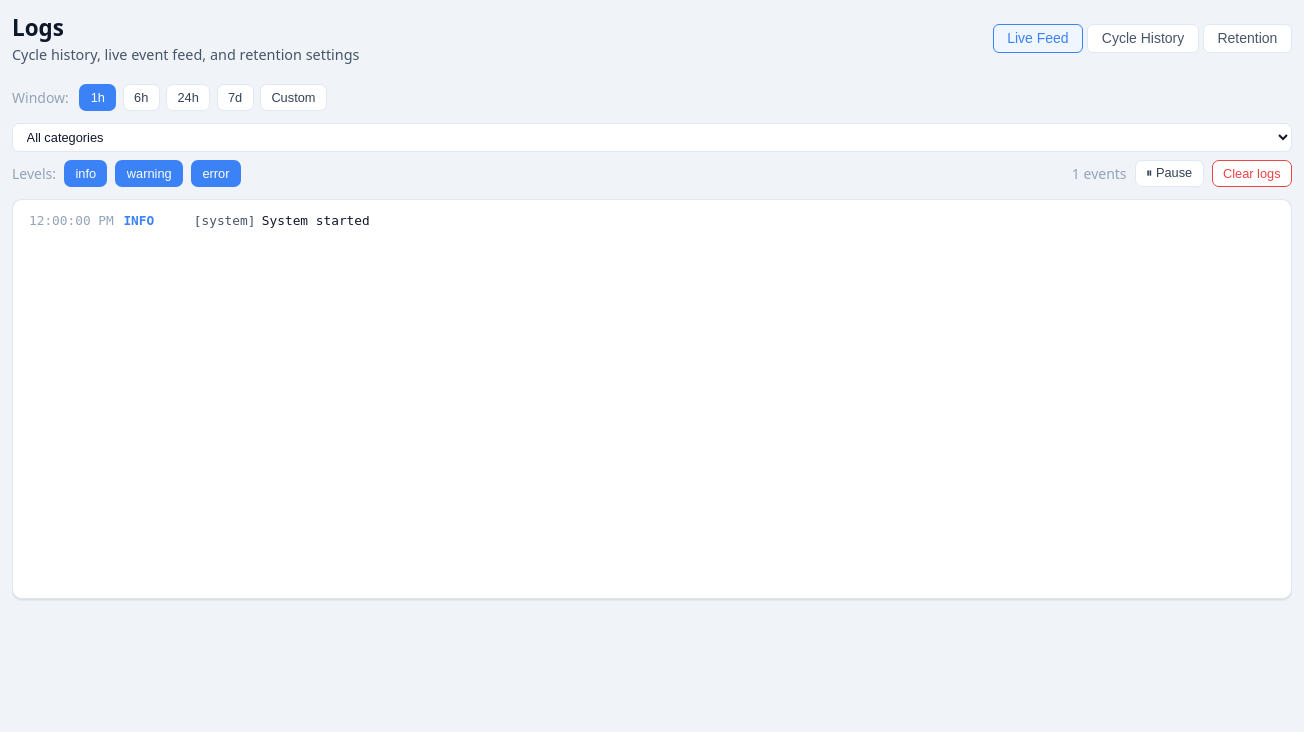
it: Logs Page › pauses and resumes the live feed
The width and height of the screenshot is (1304, 732).
expect the text "System started" is shown: met, box 262,213 -> 370,228
Click the button "⏸ Pause": (1169, 173) 1135,160 -> 1204,187
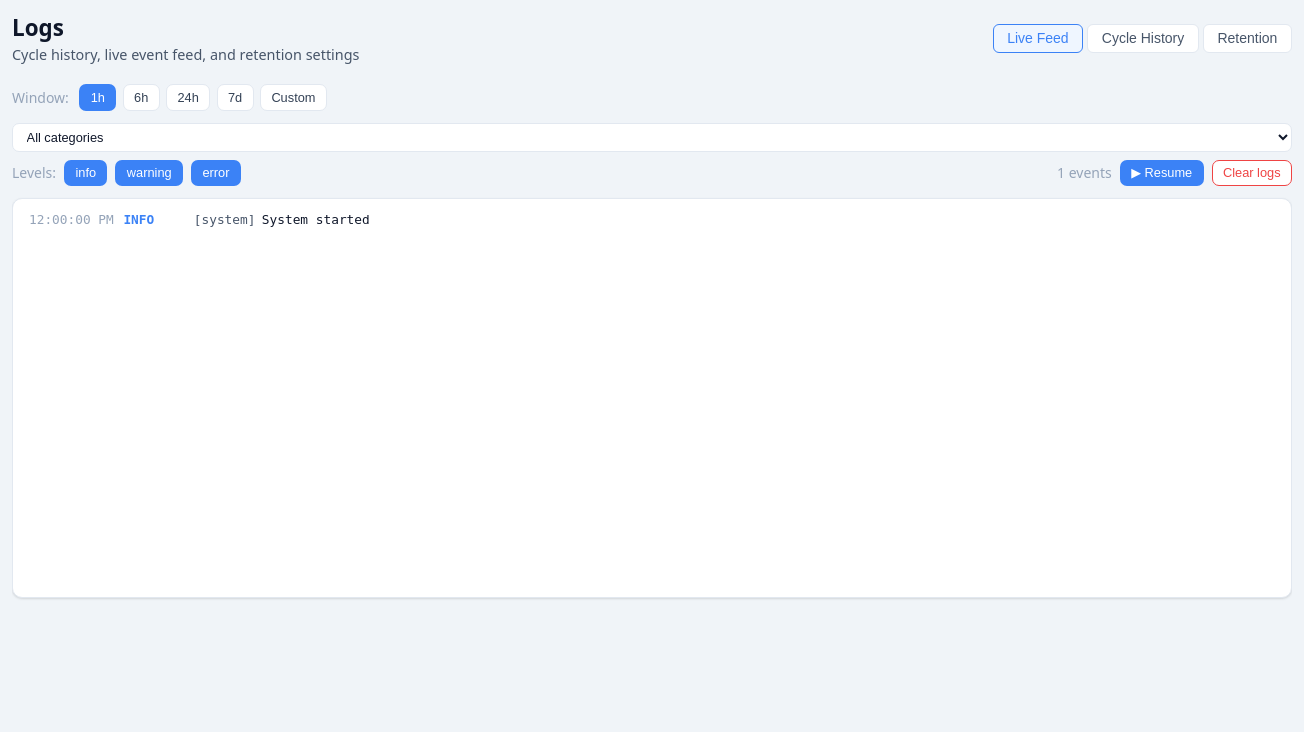
expect the button "▶ Resume" is shown: met
Click the button "▶ Resume": (1162, 173) 1120,160 -> 1204,186
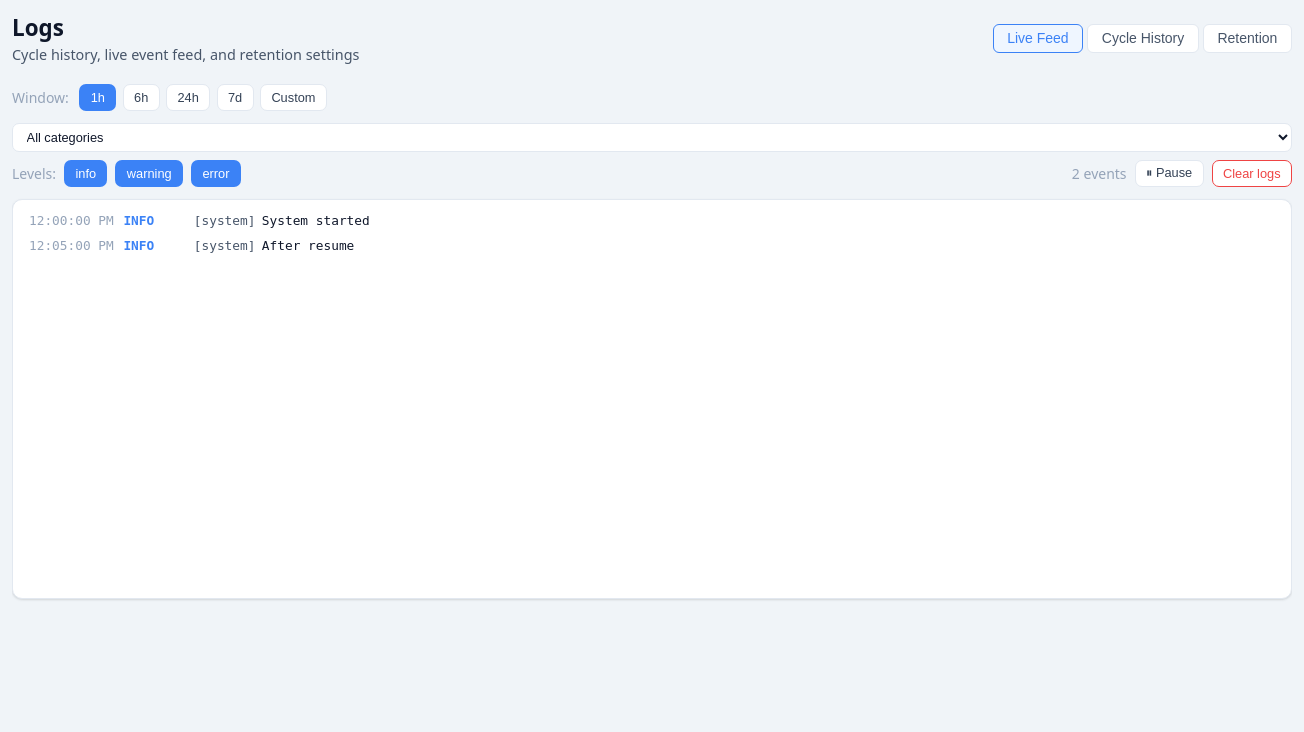
expect the button "⏸ Pause" is shown: met, box 1135,160 -> 1204,187
expect the text "After resume" is shown: met, box 262,238 -> 354,253
